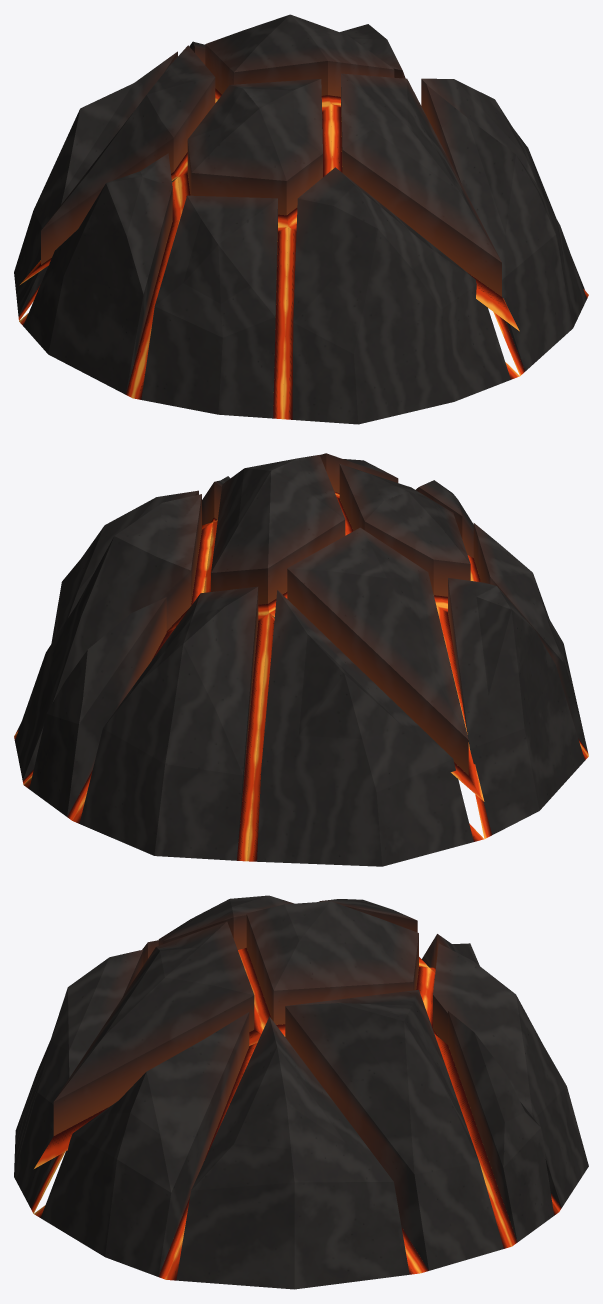
The model's file is 펑크_용암바위_02.fbx.
3 views of the same model, one above another, from view 1: azimuth 30°, elevation 25°; view 2: azimuth 150°, elevation 25°; view 3: azimuth 270°, elevation 25° (orthographic). The views are drawn at different scales.
Visible parts, largest first — view 1: 펑크_용암바위_02; view 2: 펑크_용암바위_02; view 3: 펑크_용암바위_02.
Part boxes in pixels (<box>): 펑크_용암바위_02: <box>14,14,588,424</box>; 펑크_용암바위_02: <box>14,453,588,866</box>; 펑크_용암바위_02: <box>14,895,588,1289</box>.
Size of the model in its own units: 746 by 400 by 763.
2 materials, 2 textured.
